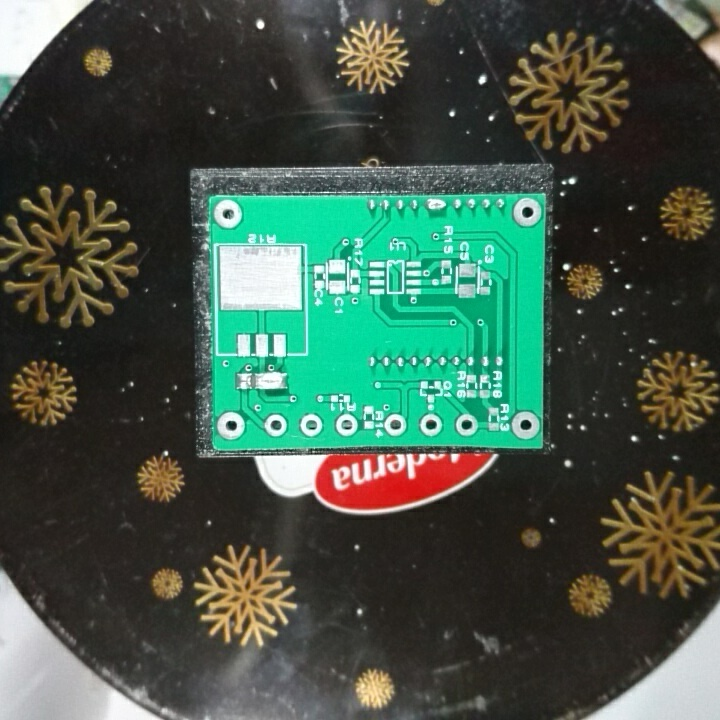F: (211, 197, 246, 232), (214, 407, 247, 444), (511, 195, 544, 229), (510, 409, 542, 441), (417, 410, 444, 440), (261, 412, 290, 439), (298, 411, 325, 438), (382, 412, 408, 440), (452, 412, 480, 438), (333, 411, 357, 439)
P: (252, 369, 290, 394), (423, 195, 448, 215)
